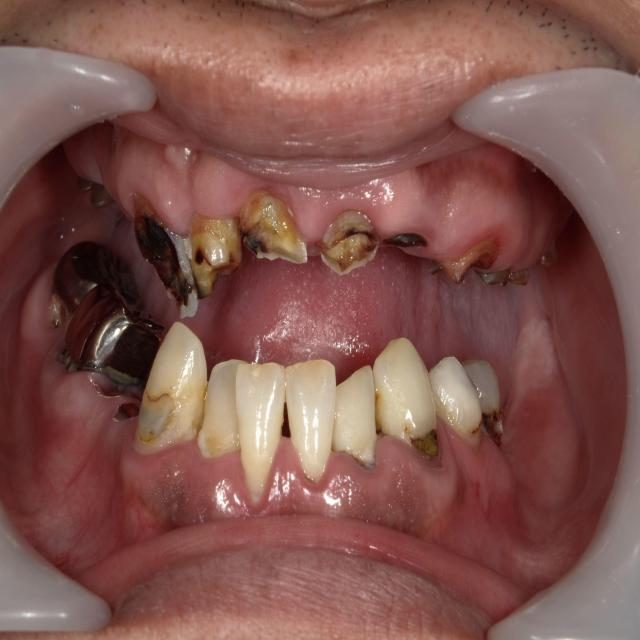Caries: (134, 215, 192, 315), (383, 233, 428, 248), (245, 236, 268, 256), (346, 229, 374, 240), (194, 248, 204, 264)
Cavity: (410, 427, 439, 460), (482, 408, 503, 439)
Tooth: (134, 321, 207, 454), (372, 338, 441, 466), (133, 193, 198, 319), (234, 362, 285, 503), (284, 360, 336, 483), (239, 189, 308, 264), (428, 357, 482, 447), (188, 211, 242, 299), (332, 365, 376, 470), (318, 210, 380, 275), (461, 359, 503, 440)
